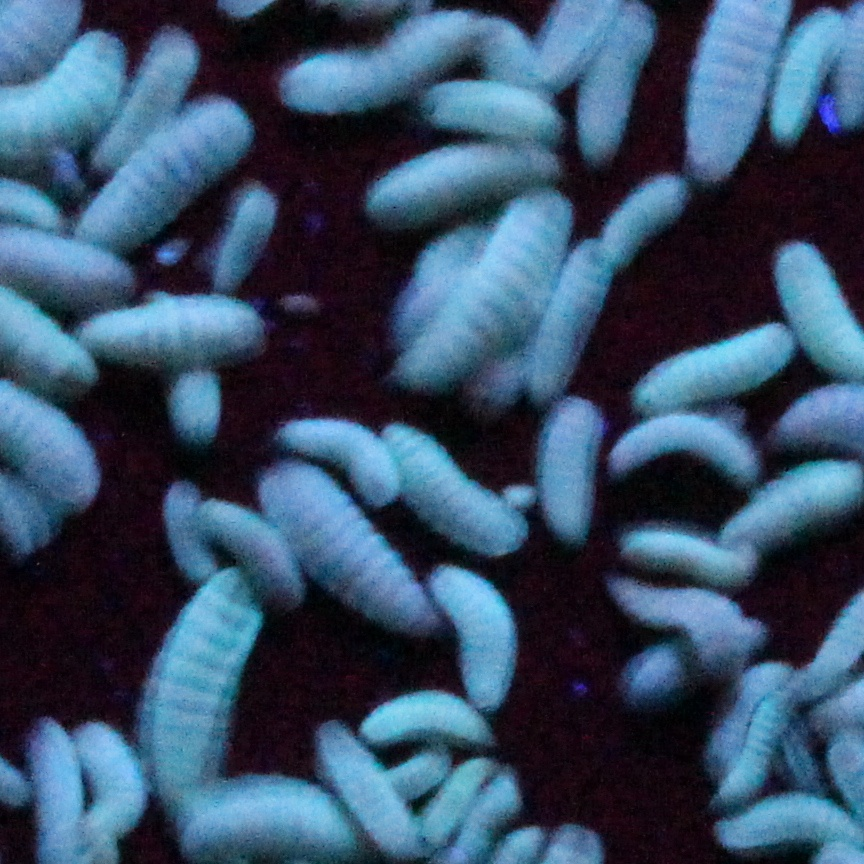larve: (248, 447, 439, 643), (134, 577, 260, 789), (437, 191, 566, 379), (274, 17, 489, 119), (86, 104, 248, 237), (363, 129, 566, 217), (524, 227, 617, 405), (399, 423, 524, 554), (426, 557, 532, 709), (568, 0, 664, 160), (523, 392, 614, 560), (271, 406, 414, 509), (638, 324, 796, 408), (609, 410, 765, 495), (194, 495, 311, 604), (77, 300, 266, 366), (347, 681, 500, 759), (605, 589, 757, 667), (589, 172, 709, 270), (103, 9, 201, 125), (68, 716, 143, 856), (613, 520, 766, 586), (202, 177, 285, 297)
